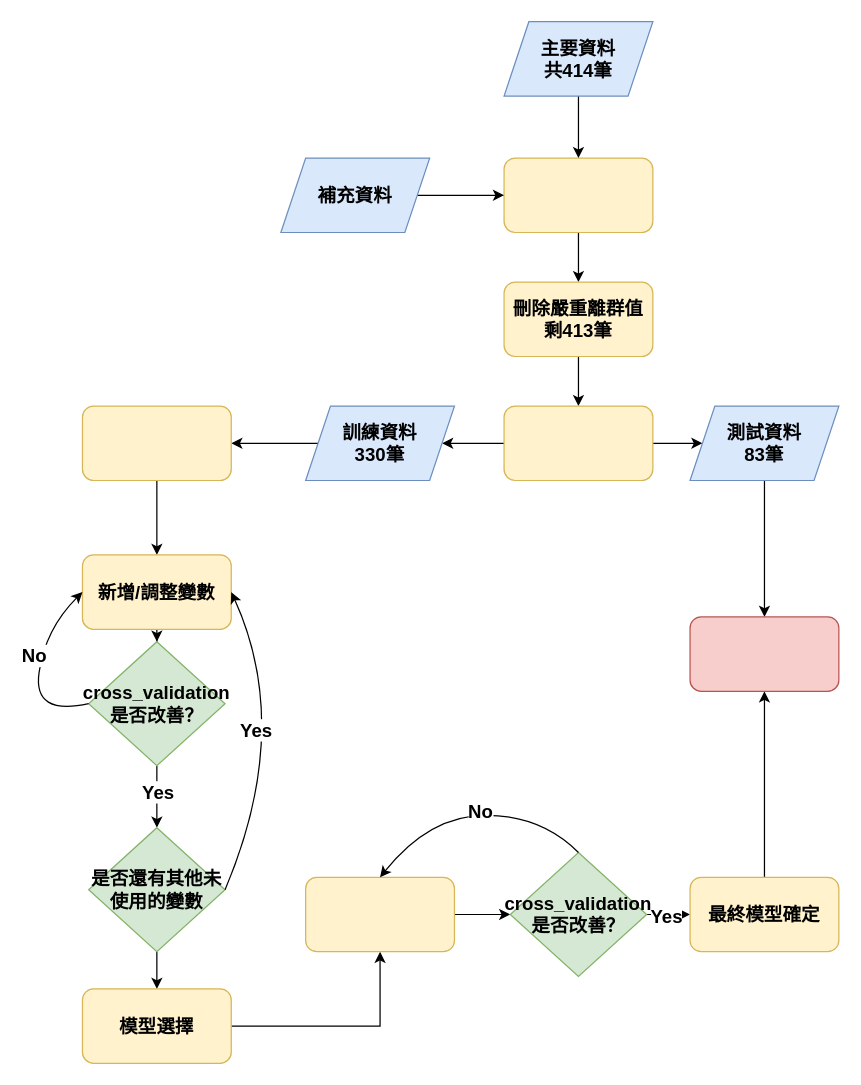
Image size: 861x1085. Some labels were removed from this diagram. The centre of each missing label's shape, as x and y in pixels:
基本變數挑選: pixel 156 442
根據距離切分 訓練(0.8)/ 測試資料(0.2): pixel 578 442
模型參數調整: pixel 379 914
測試資料結果: pixel 764 653
資料合併 414筆: pixel 578 194
